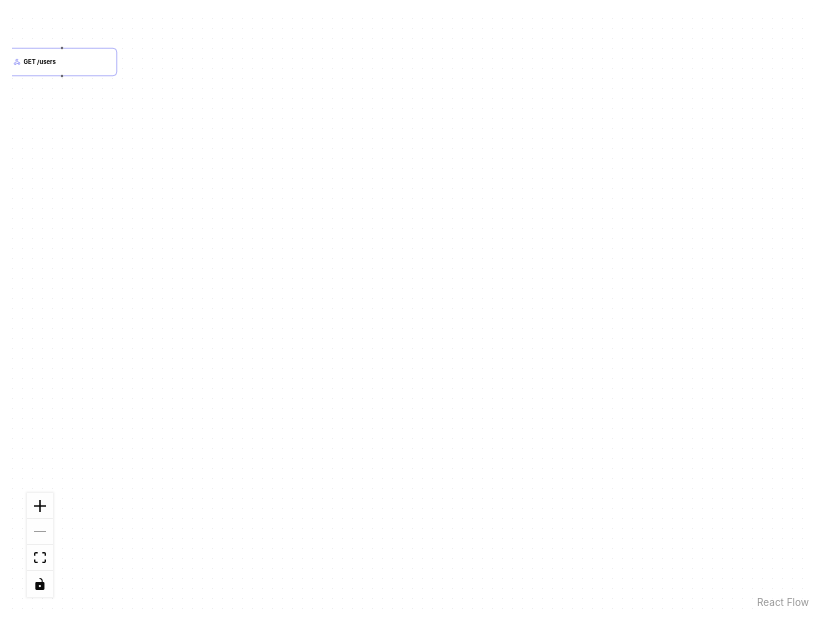
detail panel + model reveal › shows the selected entrypoint's file:line in the detail panel
This screenshot has width=826, height=626.
Click the text "GET /users".
click(40, 62)  # box [24,58,56,66]
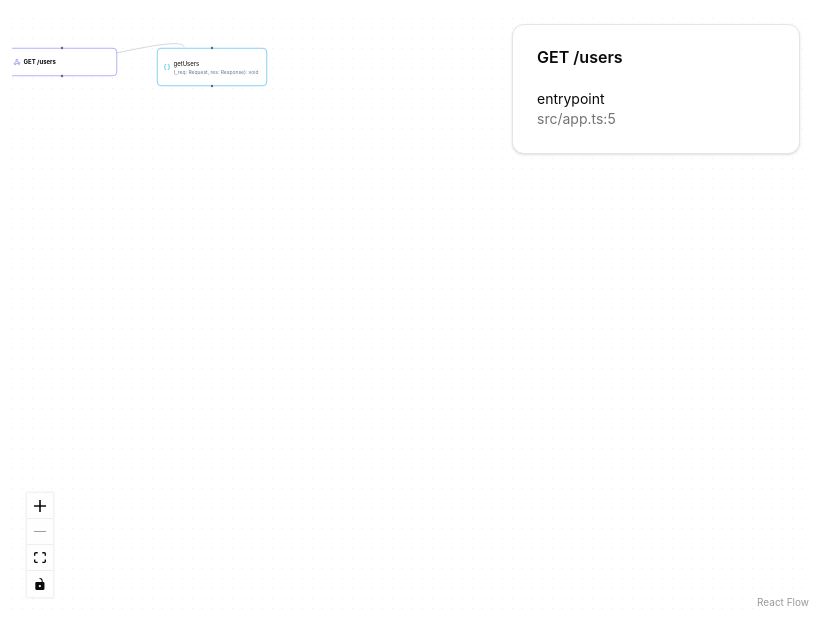
Expected: the text with test id "detail-loc" reads "src/app.ts:5", [537,110,616,127]
Expected: the text with test id "detail-kind" reads "entrypoint", [537,90,605,107]
